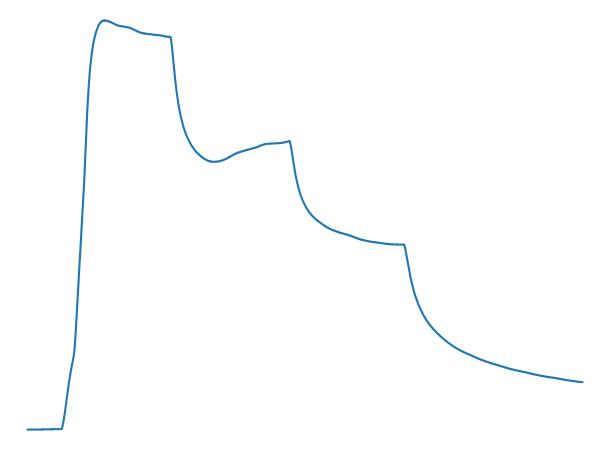decrease: (391, 236, 411, 254), (162, 29, 177, 46), (278, 135, 296, 149)
increase: (53, 418, 69, 434)
